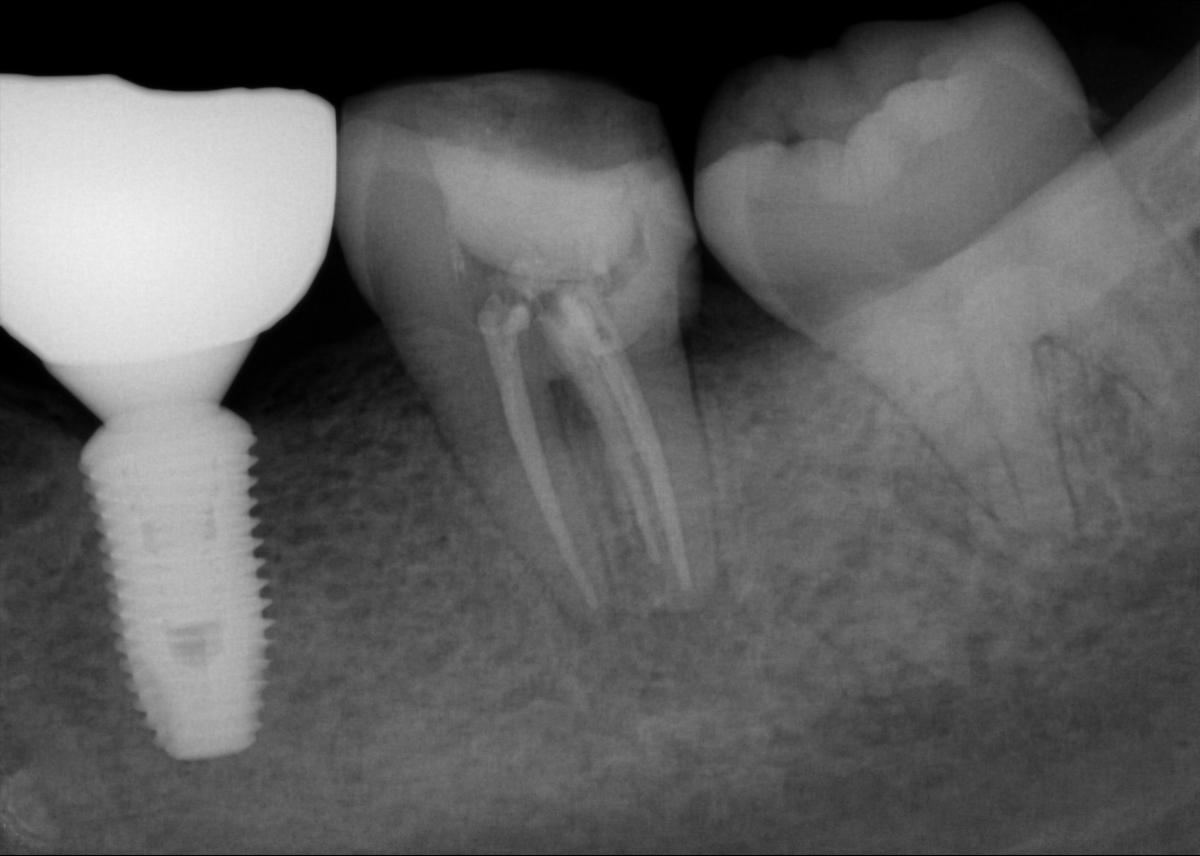Endo-Periodontal Lesion: (548, 376, 594, 443)
